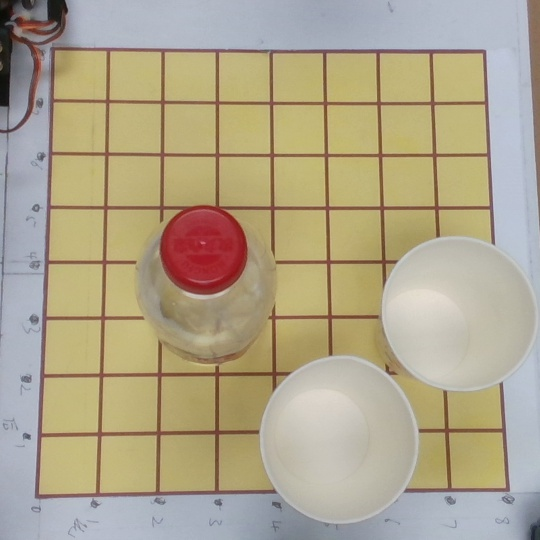bottle: (127, 204, 276, 373)
cup: (254, 353, 419, 528), (373, 234, 539, 392)
